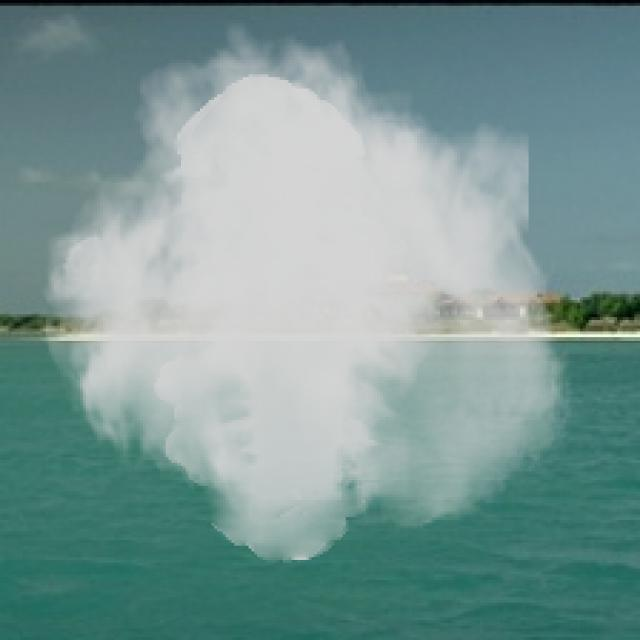smoke: (37, 20, 577, 563)
